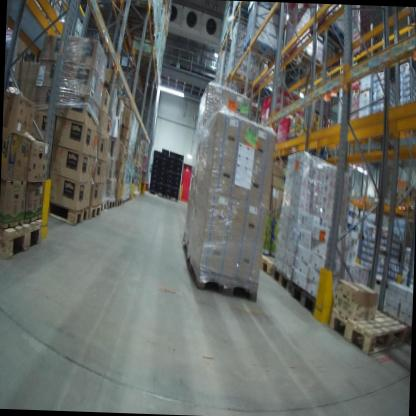pallet: (328, 289, 411, 359), (186, 250, 260, 292), (0, 212, 46, 262), (307, 11, 359, 54), (46, 195, 90, 227), (290, 276, 321, 317), (241, 37, 282, 67), (289, 43, 326, 74), (126, 19, 157, 46), (270, 261, 295, 293), (123, 0, 156, 24), (223, 68, 254, 92), (232, 1, 253, 28), (259, 256, 279, 278), (86, 203, 102, 219), (147, 187, 163, 200), (103, 198, 116, 213), (111, 196, 123, 210), (164, 192, 179, 203), (101, 201, 109, 214)
